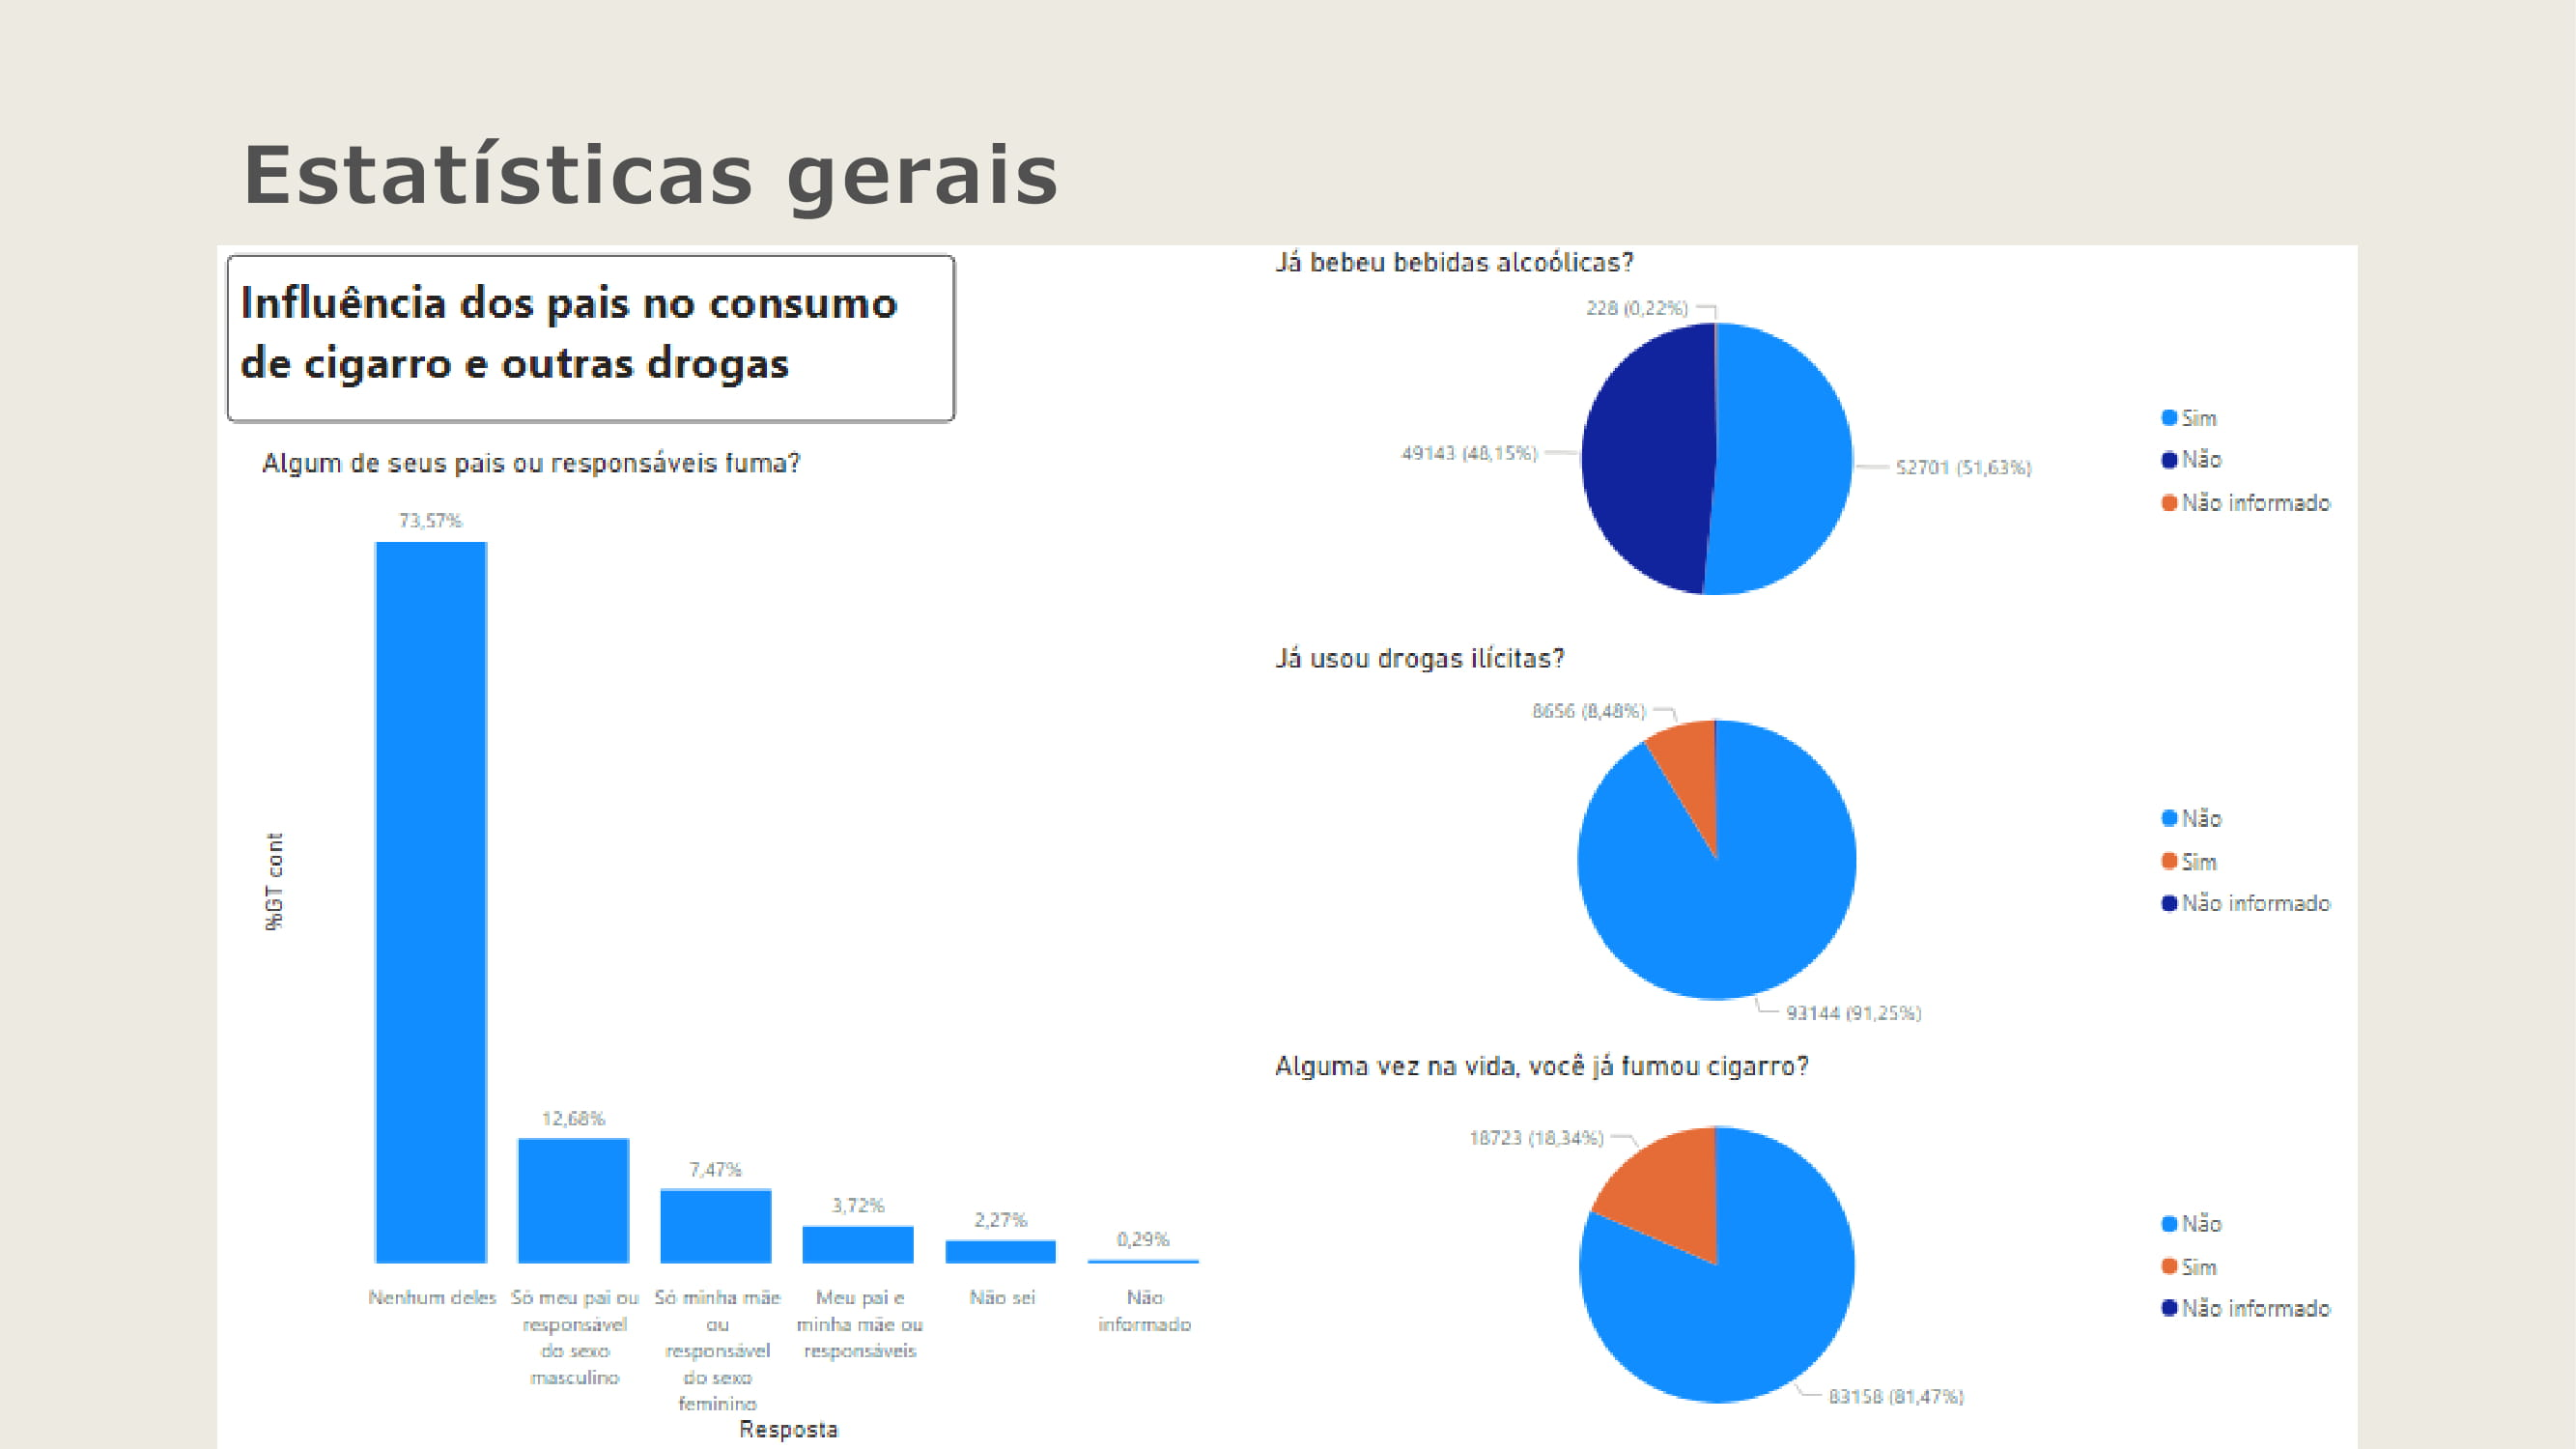

This screenshot's page, from the dashboard's own definition file:
{"tool":"powerbi","page":{"name":"Pais drogas","canvas":[1280,720],"ordinal":0},"visuals":[{"type":"clusteredColumnChart","title":"Algum de seus pais ou responsáveis fuma?","fields":{"Y":["Sum(Respotas_Questionario.cont)"],"Category":["P_Algum de seus pais ou responsáveis fuma?.Resposta"]},"box":[21.1,119.2,606.8,600.8],"z":0},{"type":"pieChart","title":"Alguma vez na vida, você já fumou cigarro?","fields":{"Category":["P_Já fumou cigarro?.Resposta"],"Y":["Sum(Respotas_Questionario.cont)"]},"box":[627.9,480,652.1,240],"z":1000},{"type":"textbox","box":[5.8,5.8,435.8,99.6],"z":2000},{"type":"pieChart","title":"Já bebeu bebidas alcoólicas?","fields":{"Y":["Sum(Respotas_Questionario.cont)"],"Category":["P_Já usou álcool?.Resposta"]},"box":[627.9,0,652.1,237],"z":3000},{"type":"pieChart","title":"Já usou drogas ilícitas?","fields":{"Category":["P_Já usou drogas ilícitas?.Resposta"],"Y":["Sum(Respotas_Questionario.cont)"]},"box":[627.9,237,652.1,243],"z":4000}]}

Visuals, with their boxes in screenshot pixels (x1, y1, x2, y2), scaled from the page's 1280x720 canvas onto the 2576x1449 screenshot:
"Algum de seus pais ou responsáveis fuma?" clusteredColumnChart: {"left": 42, "top": 240, "right": 1263, "bottom": 1448}
"Alguma vez na vida, você já fumou cigarro?" pieChart: {"left": 1263, "top": 966, "right": 2575, "bottom": 1448}
textbox: {"left": 12, "top": 12, "right": 889, "bottom": 213}
"Já bebeu bebidas alcoólicas?" pieChart: {"left": 1263, "top": 0, "right": 2575, "bottom": 477}
"Já usou drogas ilícitas?" pieChart: {"left": 1263, "top": 477, "right": 2575, "bottom": 966}
